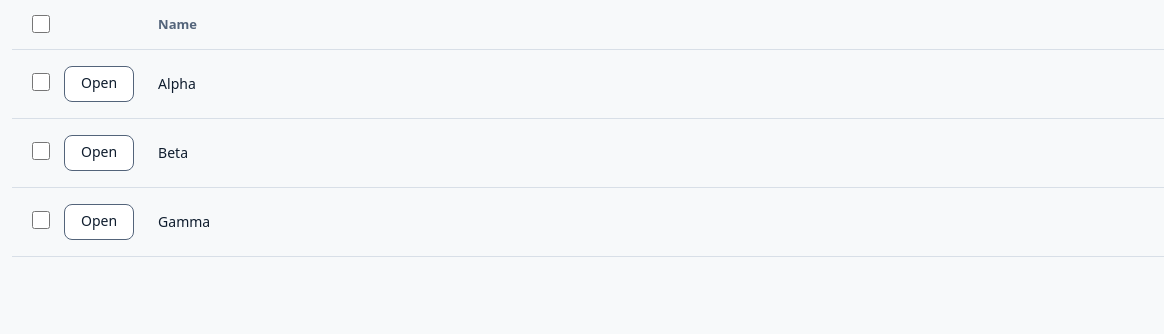
Test case: DataTable + useRowSelection + SelectionSummary, composed › the clear button empties the selection and the checkboxes follow
Click the checkbox named "Select all rows on this page" at coordinates (41, 24), box [32,15,50,33]
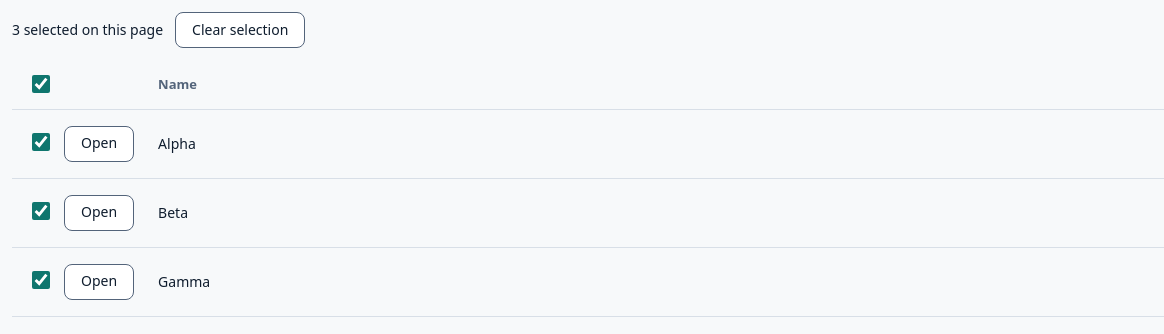
Click the button "Clear selection" at coordinates (240, 30), box [175,12,305,48]
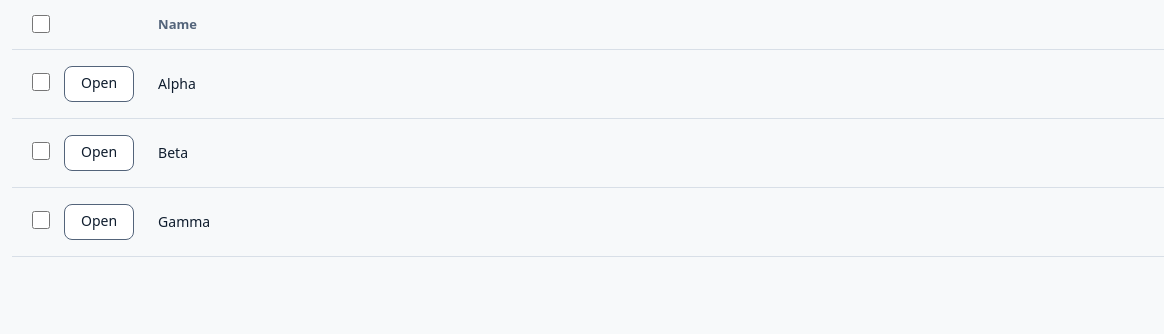
Expected: the checkbox named "Select all rows on this page" is not checked, [32,15,50,33]
Expected: the checkbox named "Select Alpha" is not checked, [32,73,50,91]
